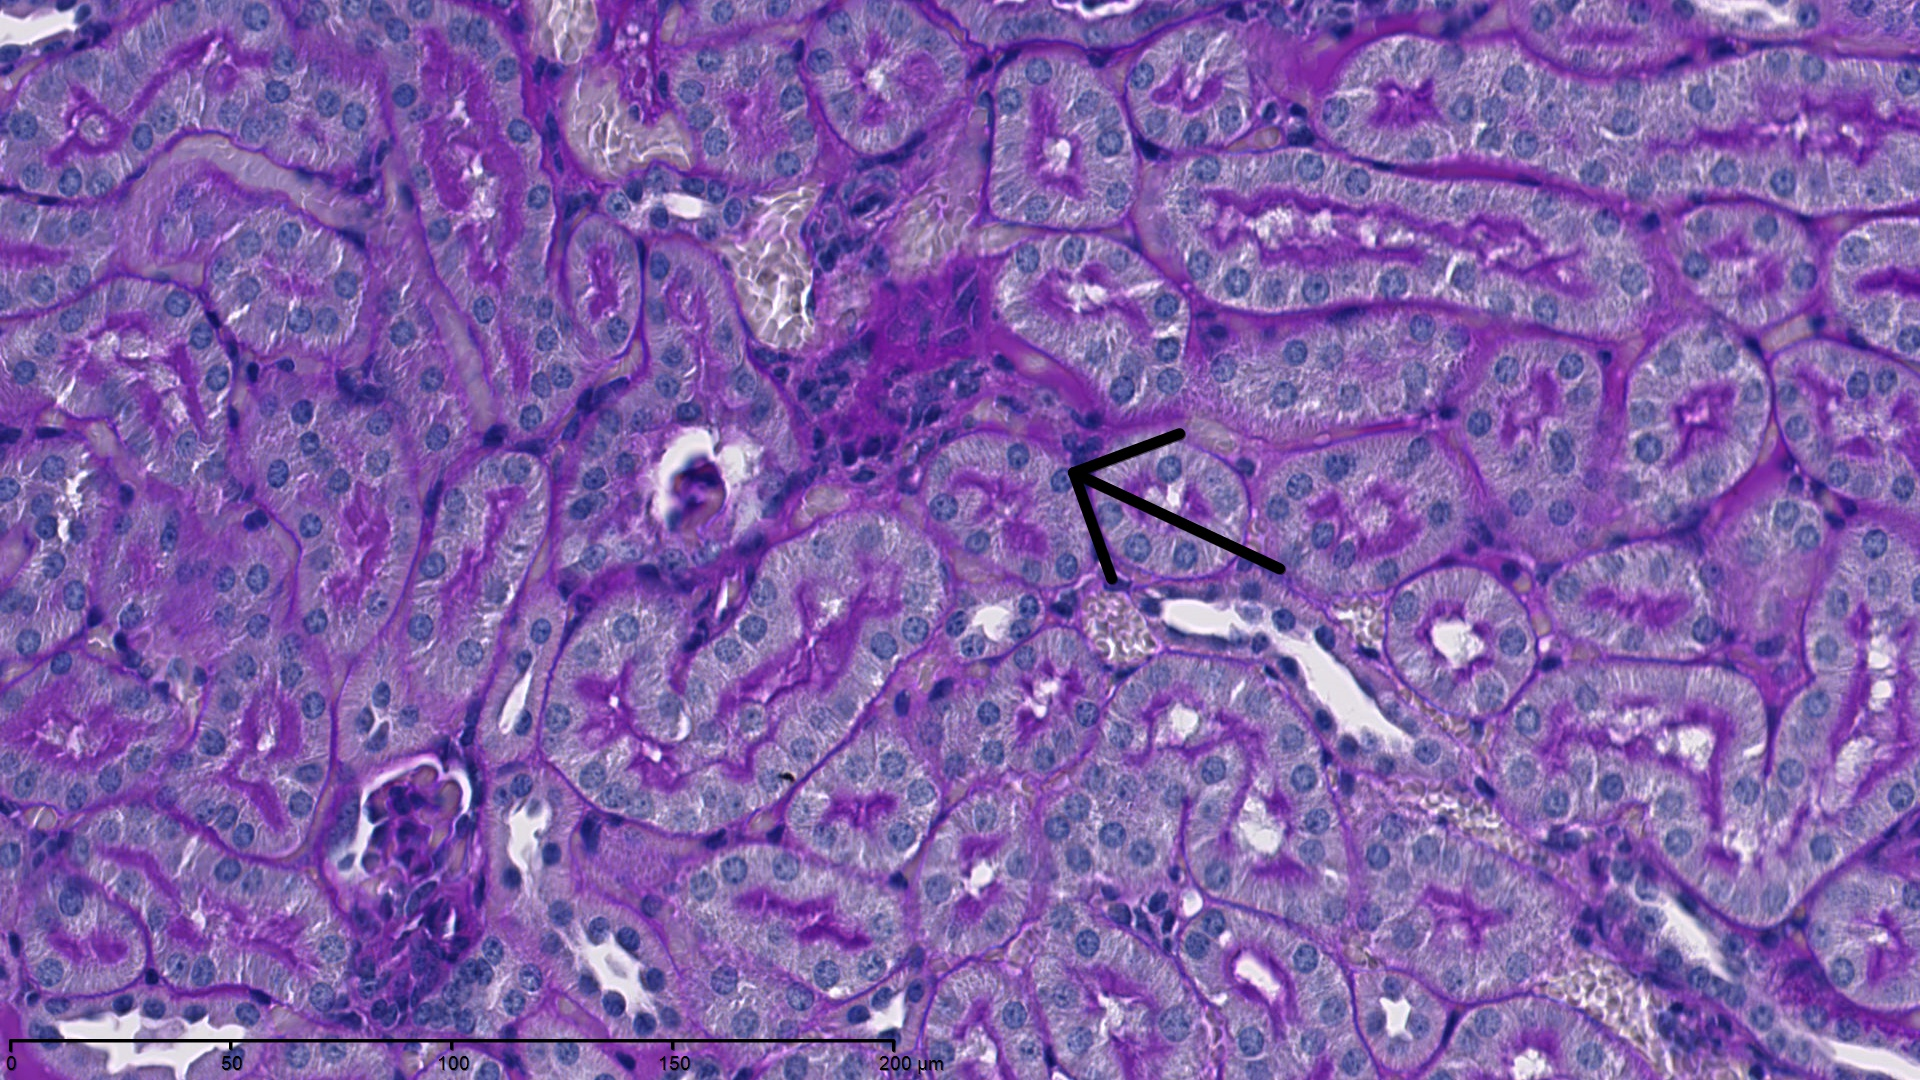Glomeruli: (756, 251, 1075, 469), (309, 740, 521, 1029)
